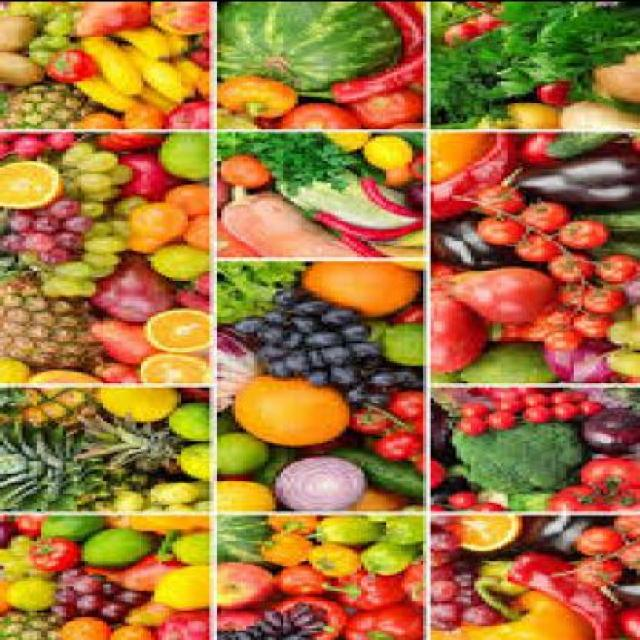BIODEGRADABLE: (426, 2, 639, 120), (209, 2, 400, 89), (294, 1, 420, 99), (482, 550, 618, 638), (431, 572, 592, 638), (444, 417, 584, 492), (272, 159, 423, 227), (217, 183, 360, 254), (489, 139, 637, 207), (1, 262, 99, 364), (214, 128, 349, 194), (427, 130, 522, 221), (228, 368, 342, 442), (423, 262, 559, 321), (88, 247, 177, 318), (298, 258, 416, 311), (268, 450, 364, 508), (213, 258, 302, 320), (316, 444, 419, 496), (430, 208, 515, 266), (431, 287, 489, 368), (0, 79, 95, 125), (118, 40, 192, 98), (213, 322, 261, 411), (69, 34, 140, 92), (216, 600, 324, 638), (449, 340, 556, 377), (77, 550, 180, 587), (538, 333, 618, 379), (302, 206, 420, 237), (518, 512, 608, 552), (74, 524, 154, 568), (264, 593, 342, 638), (73, 313, 144, 362), (217, 72, 294, 116), (431, 130, 492, 185), (110, 150, 176, 199), (316, 568, 401, 604), (346, 83, 416, 126), (357, 163, 415, 214), (575, 405, 636, 452), (66, 2, 148, 36), (140, 306, 206, 348), (442, 514, 522, 548), (0, 156, 55, 205), (540, 128, 629, 158), (342, 602, 416, 638), (217, 558, 272, 604), (213, 428, 269, 472), (147, 562, 202, 606), (217, 514, 269, 560), (154, 130, 206, 176), (74, 70, 135, 108), (268, 100, 357, 126), (140, 241, 206, 276), (589, 51, 636, 100), (556, 95, 636, 123), (132, 348, 203, 379), (475, 100, 559, 126), (247, 530, 308, 565), (125, 200, 180, 238), (575, 454, 636, 488), (0, 606, 60, 639), (357, 538, 415, 572), (0, 570, 52, 607), (308, 515, 379, 542), (356, 132, 409, 168), (305, 538, 357, 574), (110, 22, 162, 58), (40, 46, 95, 80), (272, 563, 331, 594), (214, 212, 257, 254), (214, 477, 272, 508), (566, 205, 637, 230), (376, 320, 418, 362), (217, 152, 272, 183), (471, 212, 526, 243), (541, 483, 607, 508), (151, 607, 203, 638), (540, 249, 592, 280), (519, 196, 566, 230), (148, 1, 206, 28), (26, 534, 69, 569), (555, 213, 603, 244), (103, 515, 202, 530), (169, 56, 206, 96), (0, 48, 42, 83), (365, 362, 426, 386), (331, 225, 383, 253), (427, 395, 451, 453), (217, 104, 283, 125), (55, 612, 107, 638), (368, 428, 420, 454), (0, 12, 37, 48), (574, 554, 618, 584), (84, 355, 136, 380), (165, 528, 202, 563), (514, 130, 552, 164), (37, 515, 98, 536), (162, 180, 202, 212), (121, 598, 173, 622), (345, 486, 401, 508), (22, 366, 96, 382), (582, 283, 624, 311), (213, 605, 261, 629), (574, 523, 618, 549), (382, 384, 420, 414), (476, 184, 518, 211), (593, 252, 636, 278), (89, 130, 162, 145), (394, 556, 418, 601), (379, 515, 419, 542), (162, 98, 202, 125), (320, 128, 368, 150), (118, 102, 162, 126), (504, 488, 556, 508), (585, 386, 637, 406), (346, 404, 386, 430), (313, 307, 356, 331), (563, 309, 606, 333), (58, 169, 111, 188), (596, 229, 636, 254), (514, 232, 552, 258), (254, 443, 283, 477), (181, 209, 205, 249), (426, 473, 460, 501), (71, 148, 114, 170), (7, 132, 44, 157), (132, 84, 170, 108), (603, 347, 637, 373), (537, 298, 577, 320), (556, 280, 590, 305), (102, 622, 155, 638), (615, 598, 636, 638), (482, 318, 522, 339), (56, 142, 96, 163), (522, 316, 560, 338), (364, 238, 416, 254), (607, 543, 636, 571), (103, 192, 143, 212), (71, 108, 114, 126), (452, 412, 490, 432), (544, 384, 582, 404), (298, 328, 338, 347), (603, 316, 632, 342), (0, 353, 29, 379), (173, 282, 202, 308), (460, 600, 497, 620), (442, 18, 471, 42), (471, 9, 500, 33), (66, 572, 100, 592), (7, 512, 41, 532), (48, 258, 84, 276), (482, 405, 516, 424), (382, 412, 416, 431), (246, 339, 280, 358), (18, 229, 52, 248), (217, 165, 232, 208), (82, 234, 125, 249), (346, 386, 386, 402), (78, 249, 118, 265), (376, 130, 418, 145), (125, 229, 158, 248), (358, 314, 382, 340), (534, 76, 558, 102), (100, 159, 128, 181), (166, 29, 188, 57), (603, 488, 637, 506), (232, 311, 266, 329), (40, 130, 74, 148), (372, 162, 401, 183), (266, 515, 306, 530), (316, 340, 346, 360), (379, 228, 419, 243), (431, 598, 460, 618), (431, 386, 460, 405), (48, 273, 77, 292), (302, 366, 336, 382), (386, 300, 416, 318), (214, 408, 238, 430), (255, 322, 279, 344), (49, 192, 73, 214), (346, 338, 371, 359), (446, 488, 474, 506), (516, 402, 544, 420), (8, 208, 32, 229), (74, 589, 98, 609), (273, 282, 298, 301), (55, 209, 80, 228), (401, 148, 419, 174), (291, 315, 320, 331), (258, 355, 287, 371), (0, 574, 11, 614), (552, 397, 574, 417), (258, 305, 287, 320), (331, 320, 360, 335), (426, 458, 442, 485), (184, 44, 202, 68), (460, 498, 503, 508), (431, 528, 452, 548), (431, 576, 452, 596), (338, 368, 360, 387), (30, 209, 52, 228), (110, 588, 144, 600), (456, 400, 490, 412), (518, 391, 552, 403), (100, 211, 125, 227), (33, 278, 55, 296), (55, 227, 77, 245), (96, 602, 124, 616), (41, 15, 65, 31), (615, 514, 636, 532), (78, 186, 107, 199), (52, 567, 77, 582), (603, 368, 637, 379), (287, 298, 324, 308), (279, 333, 298, 352), (434, 115, 474, 124), (298, 348, 320, 364), (37, 248, 66, 260), (456, 587, 478, 602), (48, 587, 70, 602), (0, 229, 18, 247), (621, 328, 637, 348), (431, 368, 460, 379), (287, 351, 308, 366), (187, 272, 202, 293), (452, 551, 471, 567), (456, 569, 475, 585), (99, 578, 118, 594), (621, 273, 637, 292), (25, 48, 44, 64), (78, 201, 99, 214), (7, 532, 22, 550), (386, 117, 416, 126), (48, 603, 70, 615), (0, 521, 11, 545), (89, 263, 113, 274), (48, 34, 70, 46), (48, 2, 68, 15), (574, 398, 595, 410), (82, 218, 103, 230), (22, 31, 41, 44), (55, 9, 77, 20), (187, 28, 202, 44), (0, 1, 26, 10), (431, 512, 452, 523), (607, 305, 622, 320), (430, 550, 448, 562), (431, 618, 455, 627), (394, 258, 418, 267), (15, 248, 33, 260), (489, 391, 497, 415), (25, 1, 41, 13), (430, 566, 448, 576), (626, 298, 636, 316), (0, 137, 8, 158), (463, 2, 491, 8), (408, 450, 419, 465), (0, 562, 18, 571), (80, 278, 92, 291), (492, 382, 508, 391), (464, 384, 485, 390), (398, 502, 419, 508), (518, 386, 537, 392), (629, 130, 636, 145), (12, 552, 22, 562), (0, 131, 15, 137), (0, 544, 5, 558), (0, 512, 8, 520), (431, 501, 442, 505)
